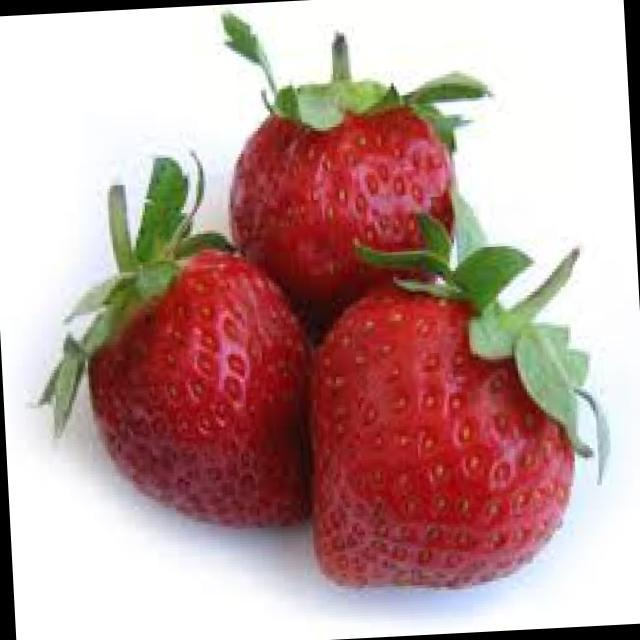Strawberry: (15, 0, 628, 623)
